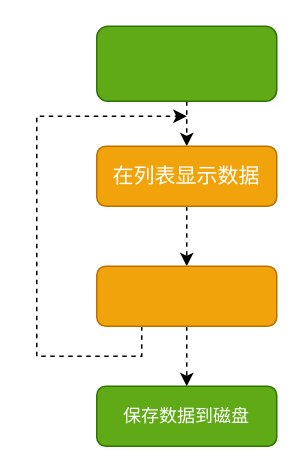
The diagram is 303 pixels wide and 473 high, and some of its shapes have lost their labels. Each missing label, with the centre of its shape:
从磁盘加载数据: [186,63]
从网络获取新数据: [186,295]
